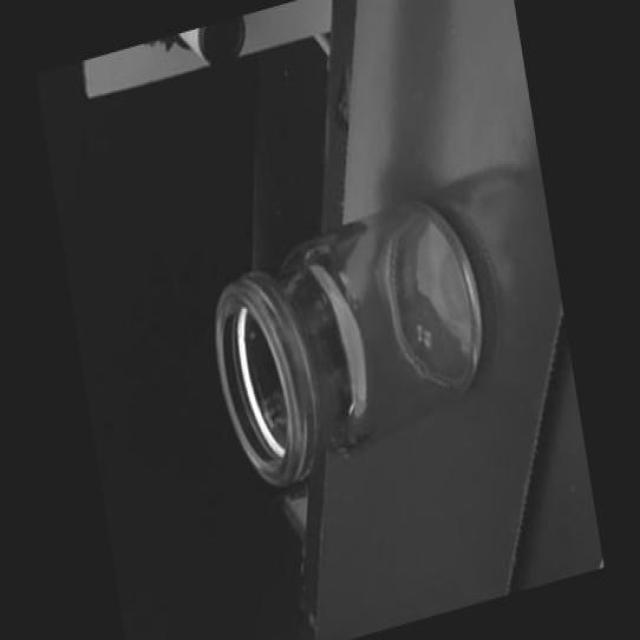defect: (346, 390, 360, 414)
glass: (203, 188, 502, 498)
